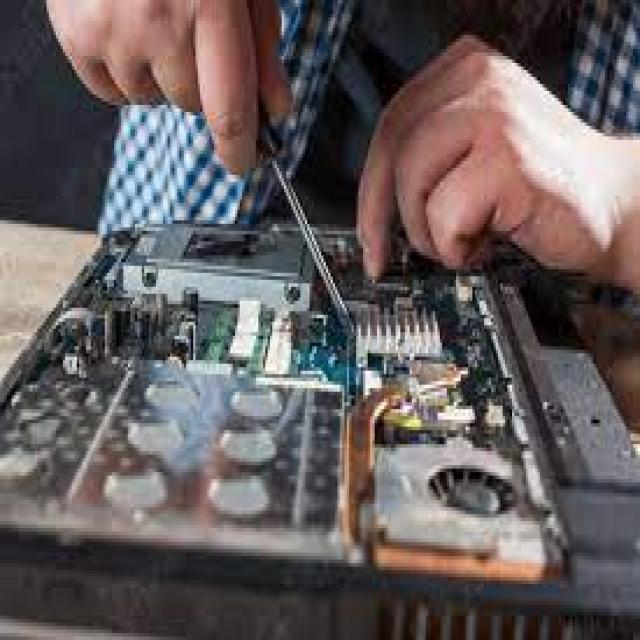screwdriver: (243, 75, 357, 338)
